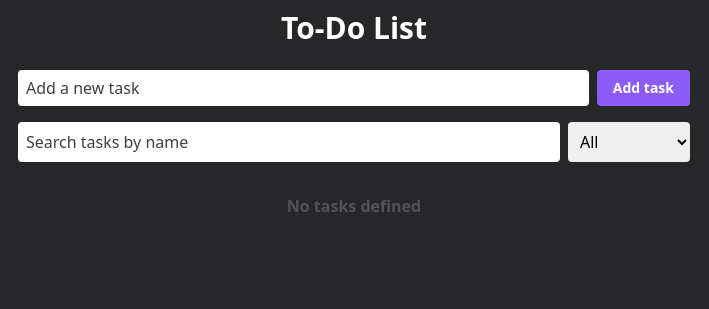
Test: ToDoList Component › should toggle filter correctly
This screenshot has width=709, height=309.
Type "Task 1" into the field with placeholder "Add a new task" at x=303, y=88, box [18, 70, 589, 106]
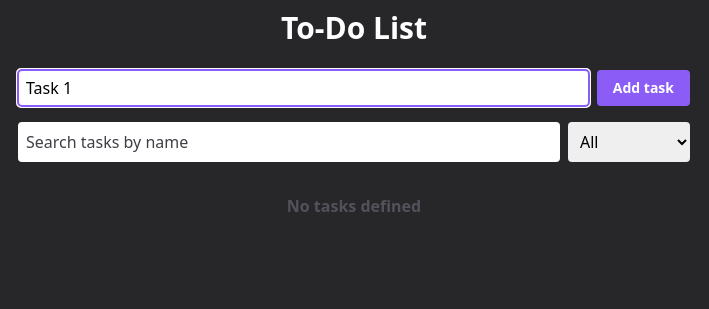
Click the button "Add task" at x=643, y=88, box [597, 70, 690, 106]
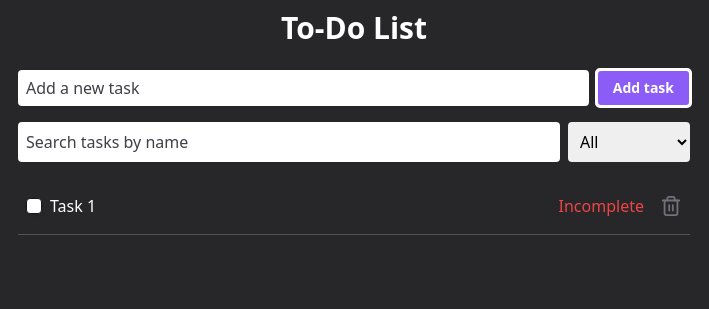
Type "Task 2" into the field with placeholder "Add a new task" at x=303, y=88, box [18, 70, 589, 106]
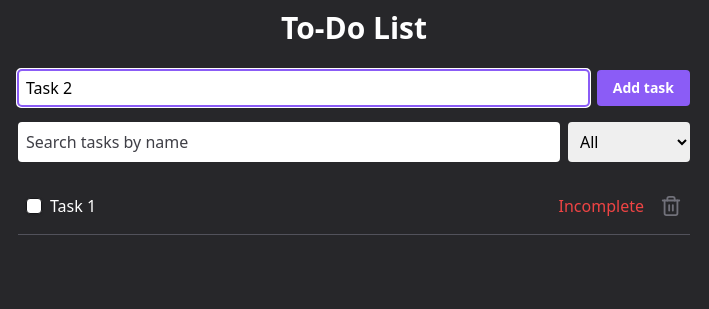
Click the button "Add task" at x=643, y=88, box [597, 70, 690, 106]
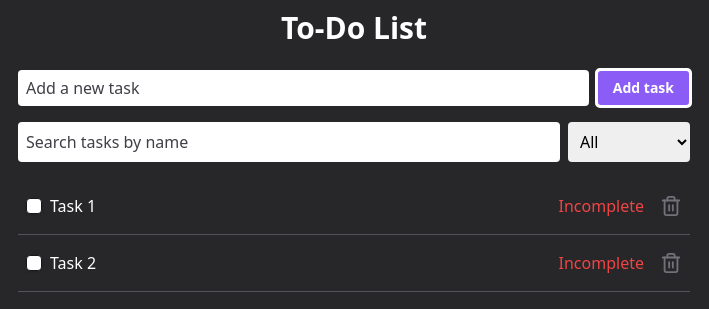
Click the checkbox next to "Task 1" at x=34, y=206, box [26, 198, 42, 214]
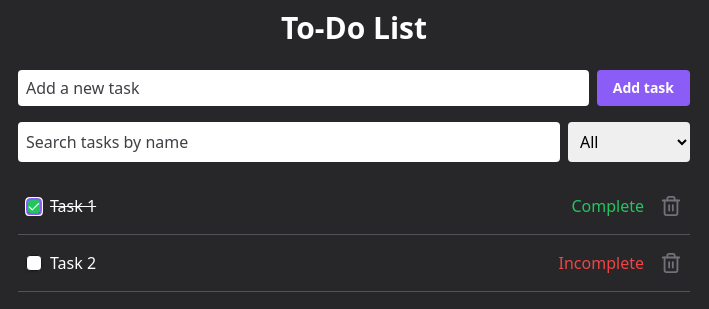
Select "Complete" in the dropdown at x=629, y=142, box [568, 122, 690, 162]
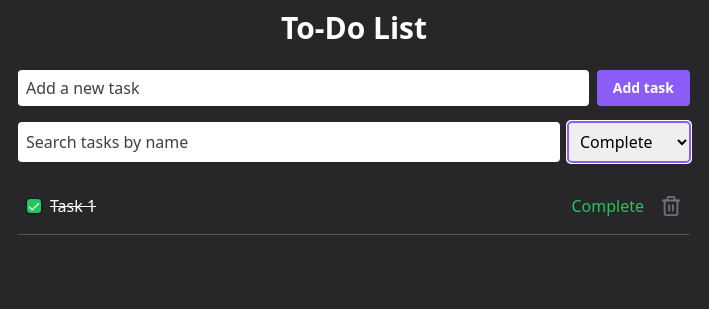
Result: the text "Task 1" is shown at [50, 194, 96, 218]
Result: the text "Task 2" is gone
